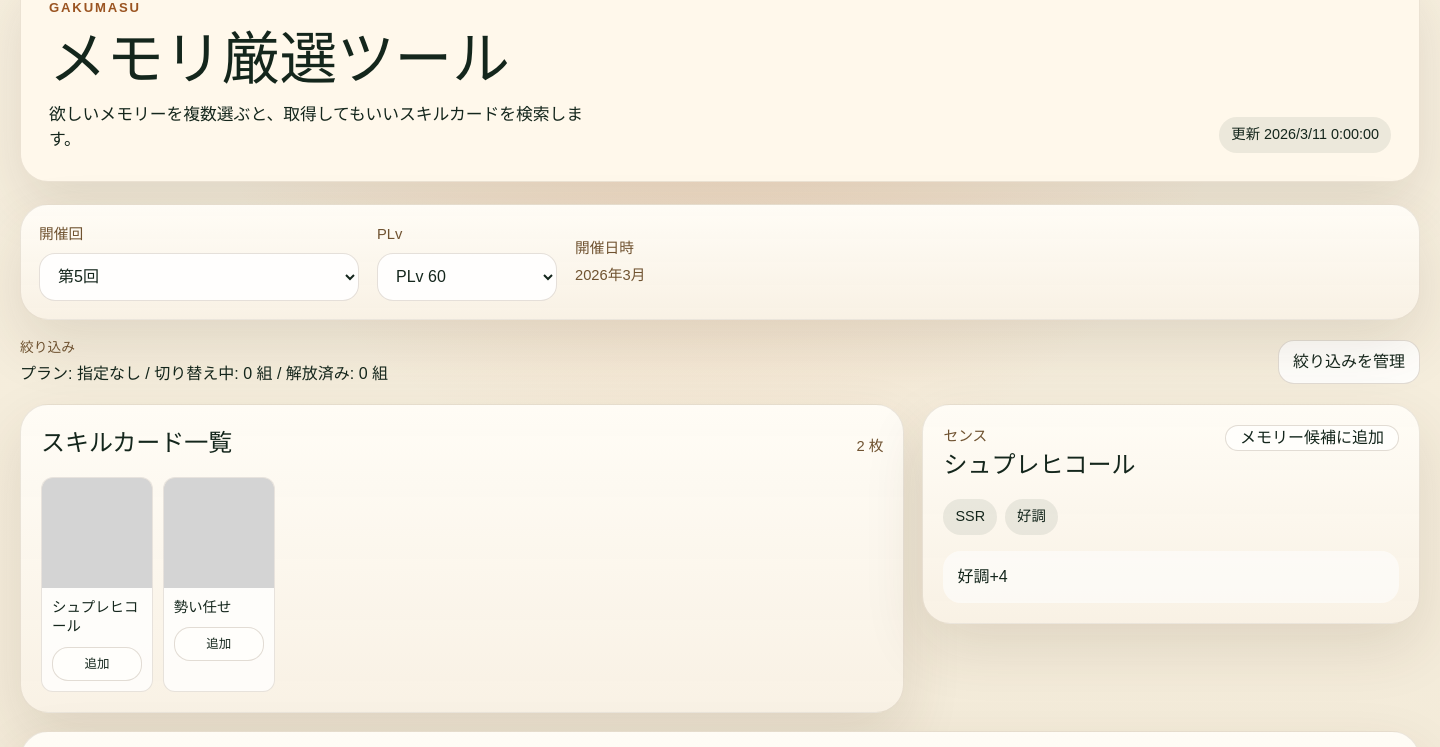
Test case: AppShell › filters cards by PLv and clears selections that are no longer unlocked
Step 1. Click the button with aria-label "シュプレヒコールを候補に追加" → (97, 585), box [41,477,153,692]
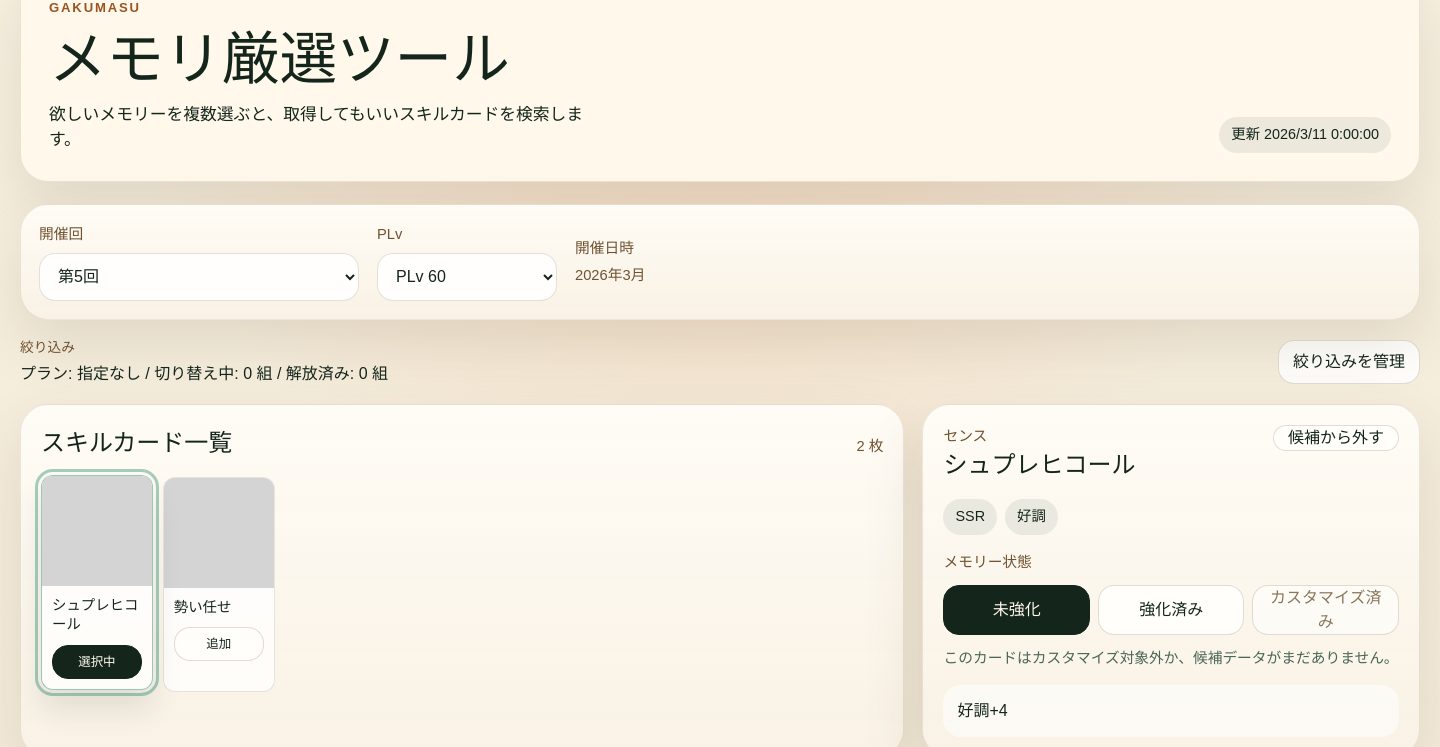
Step 2. Select "PLv 29" in the dropdown named "PLv" → (467, 277), box [377,253,557,301]
(page scrolled)
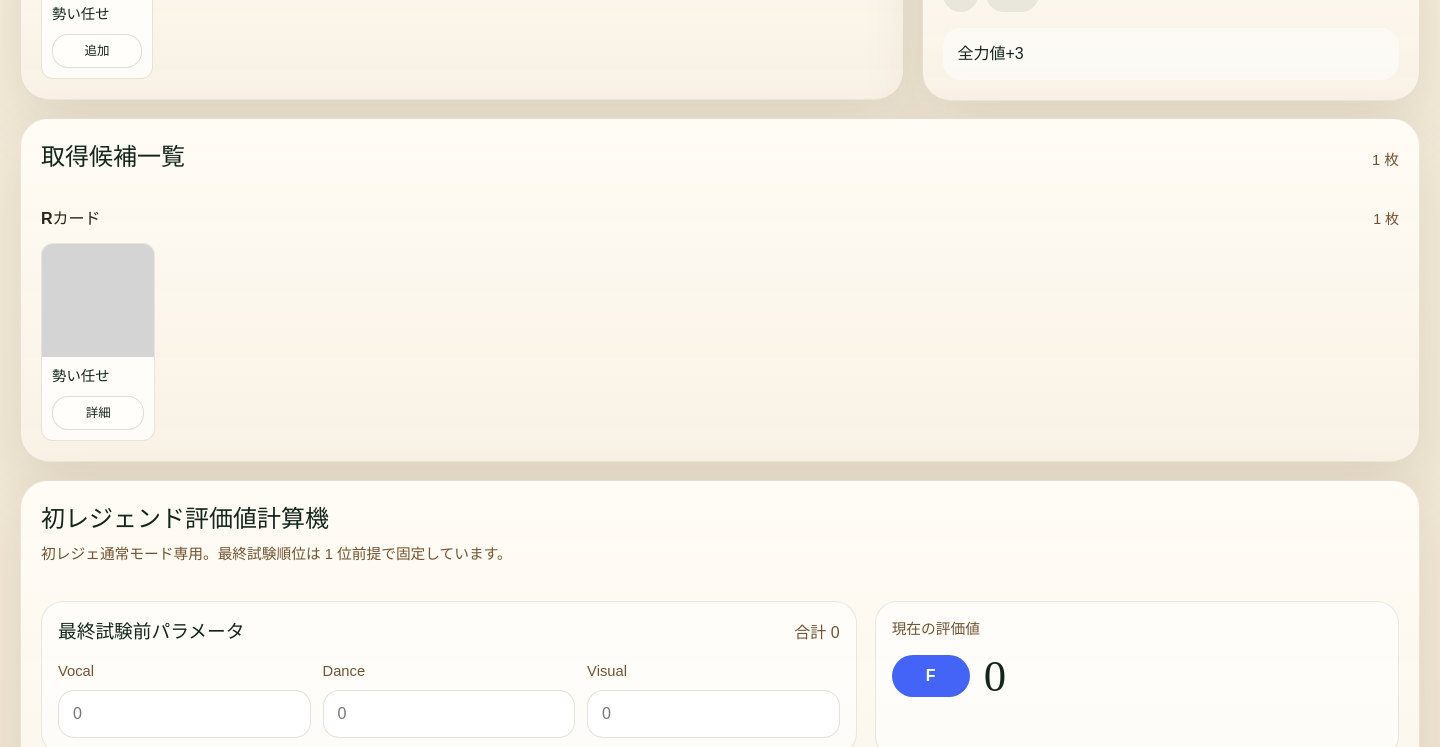
Expected: the button "シュプレヒコール" is gone
